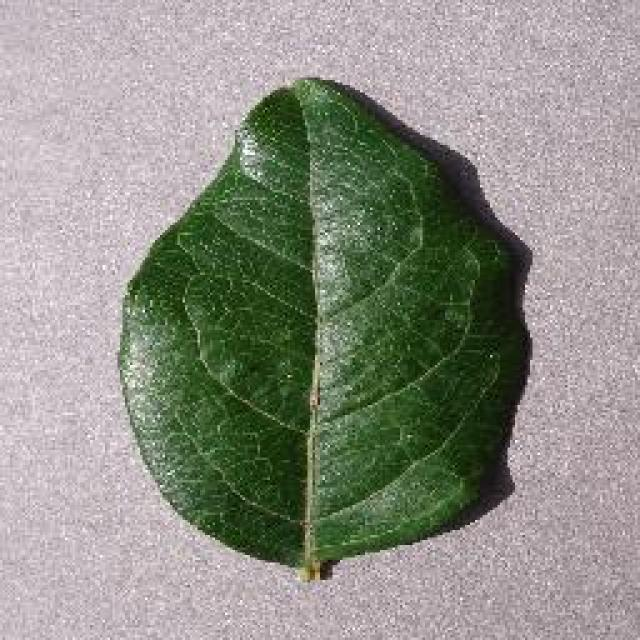Blu_healthy: (124, 124, 498, 526)
